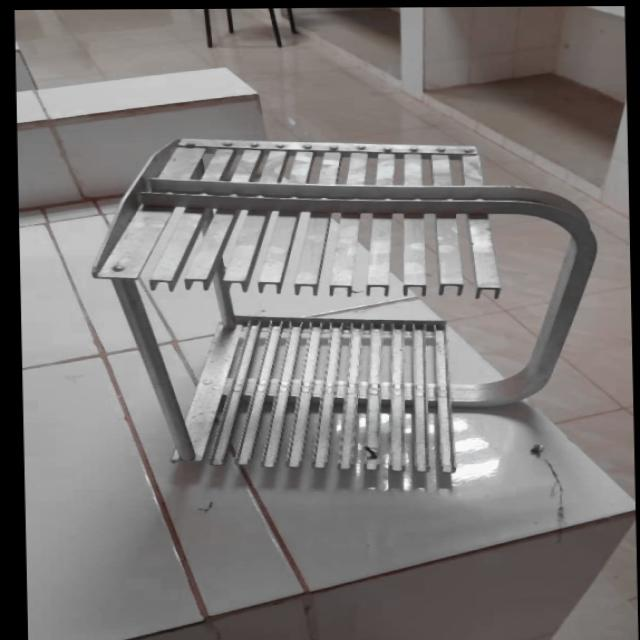Plate Rack: (79, 128, 604, 490)
